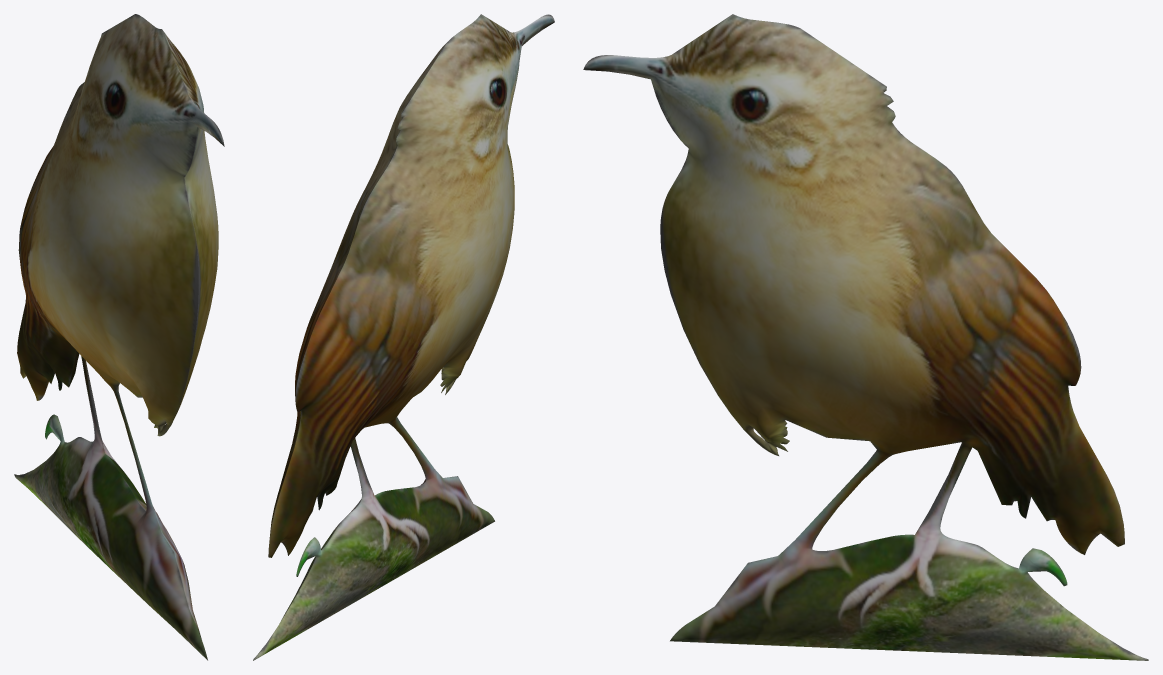
Rendered from a-removebg-preview.gltf.
The picture shows the model from 3 angles, left to right: view 1: azimuth 30°, elevation 25°; view 2: azimuth 150°, elevation 25°; view 3: azimuth 270°, elevation 25°; orthographic projection. The views are drawn at different scales.
Visible parts, largest first — view 1: node1; view 2: node1; view 3: node1.
Boxes of the visible parts, x1,y1,x2,y2 form: node1: [14, 14, 224, 660]; node1: [253, 14, 554, 660]; node1: [583, 14, 1148, 660].
Size of the model in its own units: 0.3514 by 1.44 by 1.19.
1 material, 1 textured.
